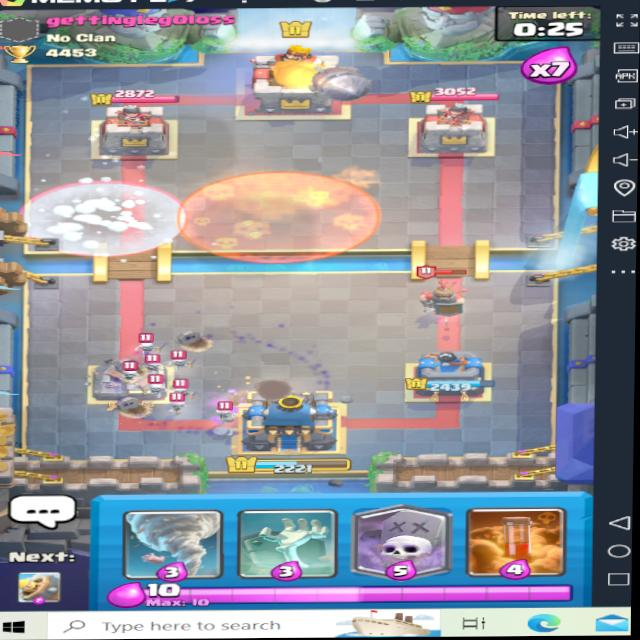freeze: (13, 177, 187, 256)
poison: (173, 166, 382, 265)
rocket: (298, 58, 377, 110)
royal-recruits: (413, 266, 473, 317)
skeleton: (208, 392, 239, 421), (169, 373, 203, 398), (145, 372, 178, 397), (143, 351, 177, 375), (164, 347, 197, 371), (104, 362, 143, 382), (129, 331, 162, 352), (162, 392, 191, 411)
